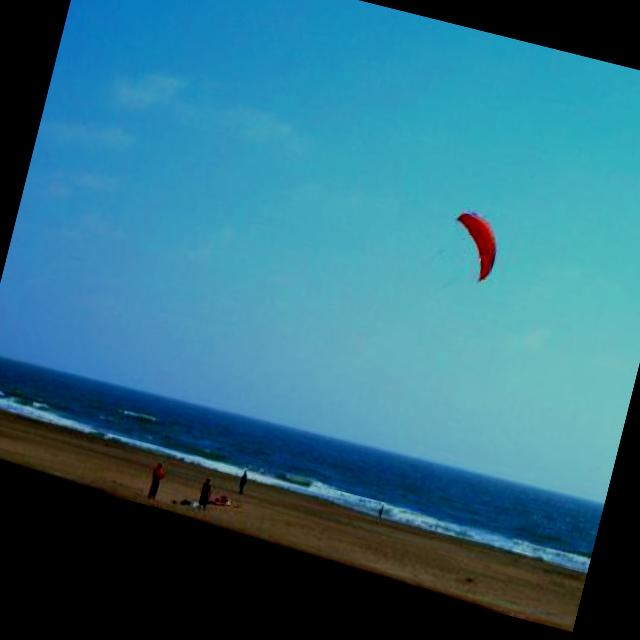Person: (192, 469, 216, 516), (144, 460, 168, 502), (236, 469, 248, 494), (378, 506, 384, 517)
